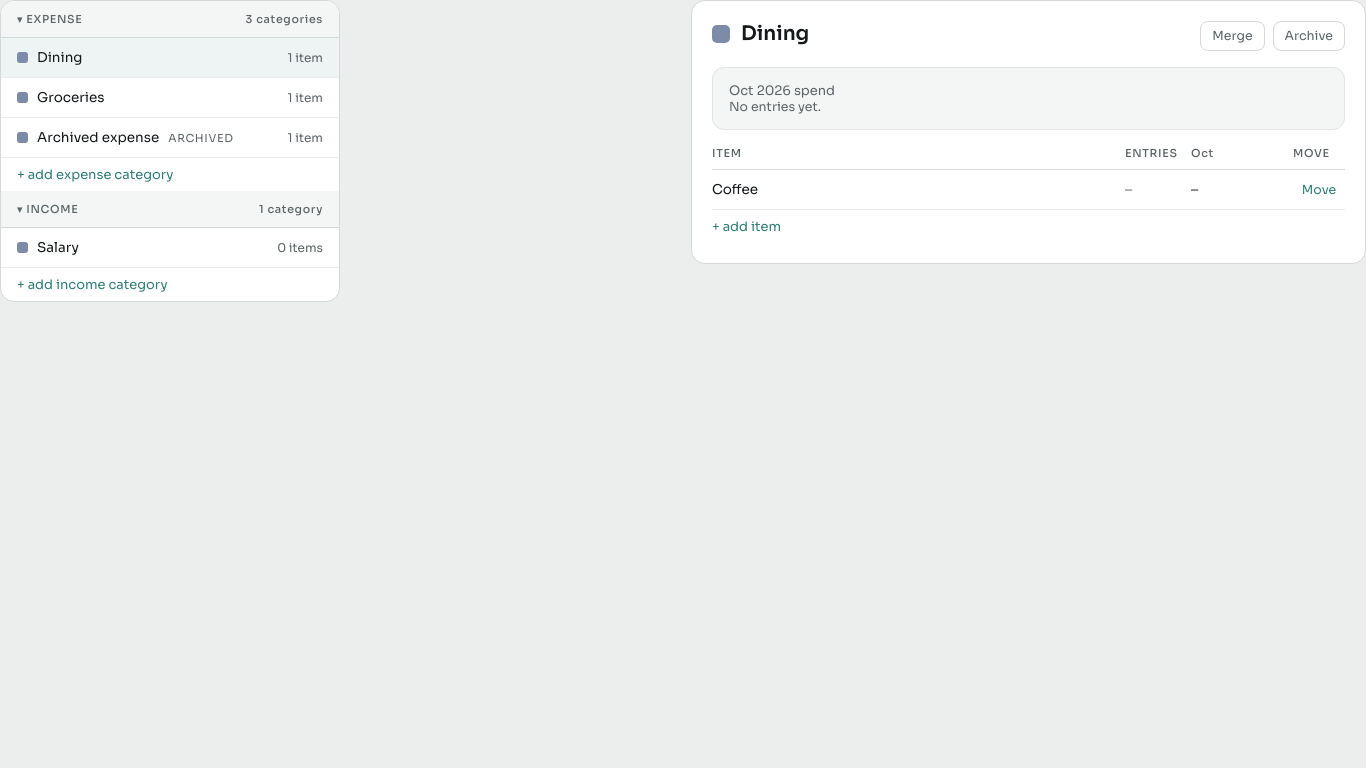
Test: category operation dialogs › requires destinations, filters them, previews combinations, and sends move and merge requests
Click the button "Move": (1319, 190) [1293,182,1345,198]
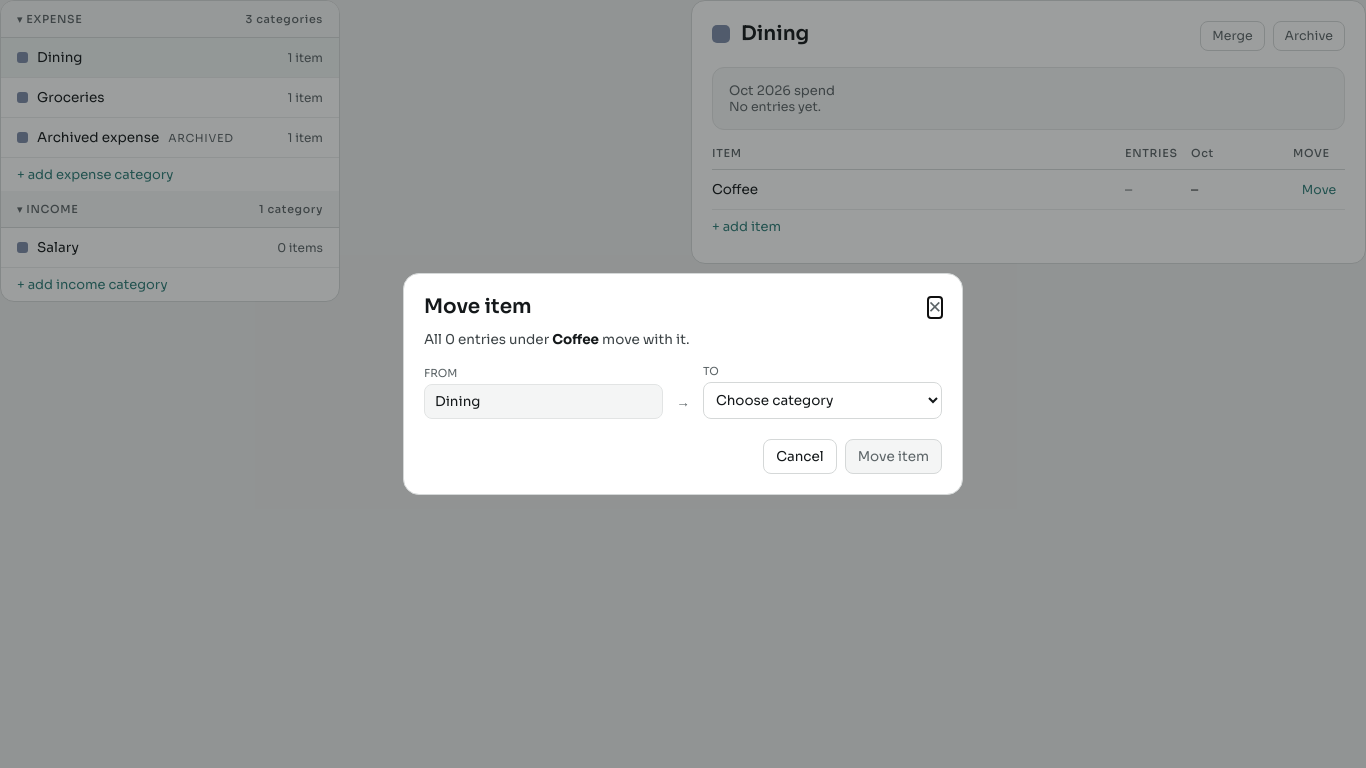
Expected: the button "Move item" is disabled, [845,439,942,474]
Select "Groceries" in the dropdown named "Move item to category": (822, 400) [703,382,942,419]
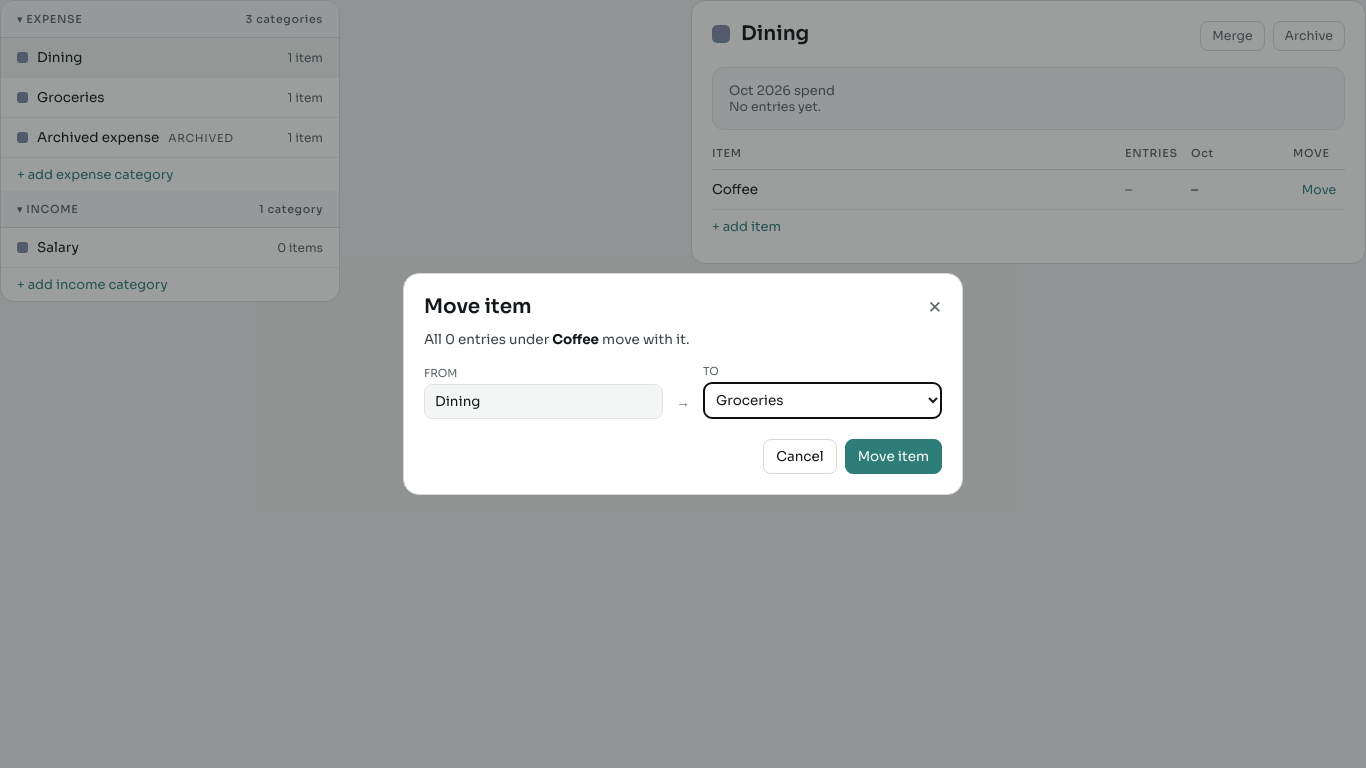
Click the button "Move item": (893, 456) [845,439,942,474]
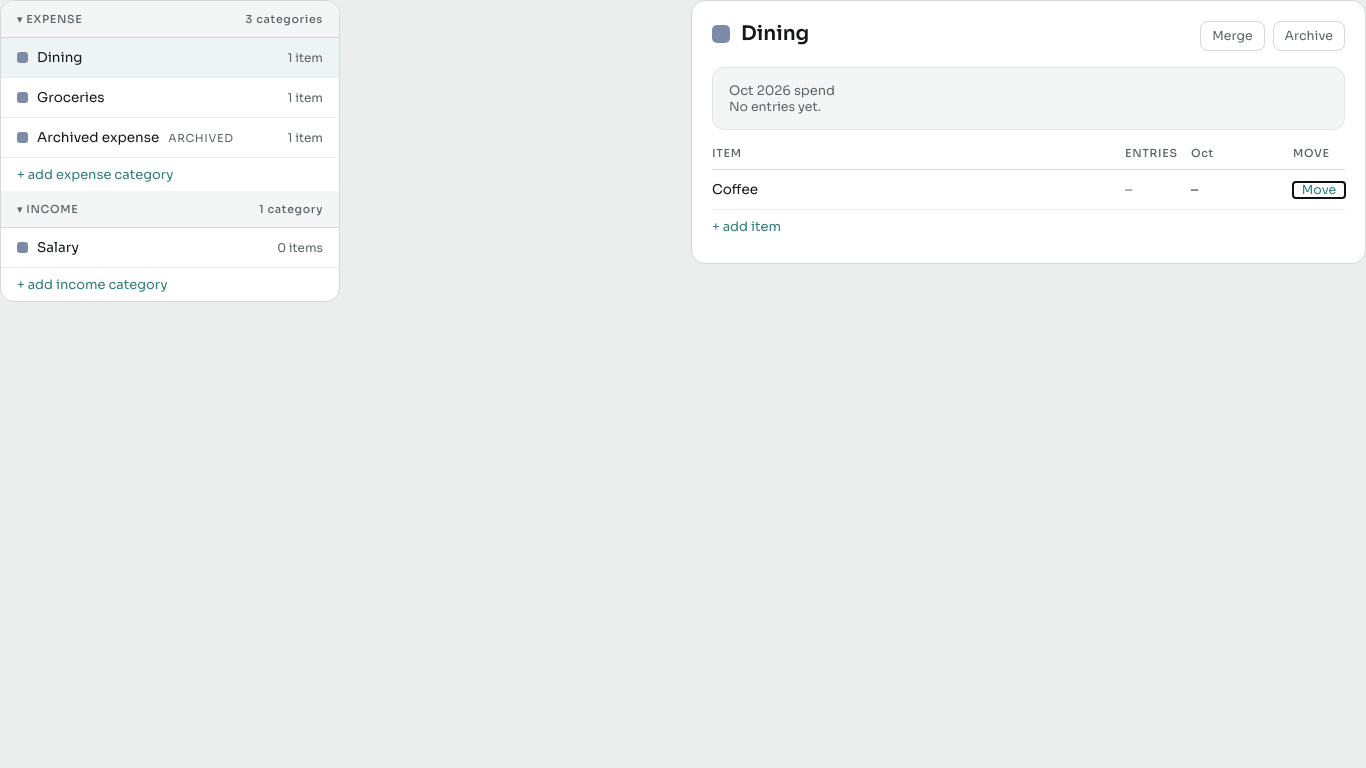
Click the button "Merge": (1232, 36) [1200,21,1265,51]
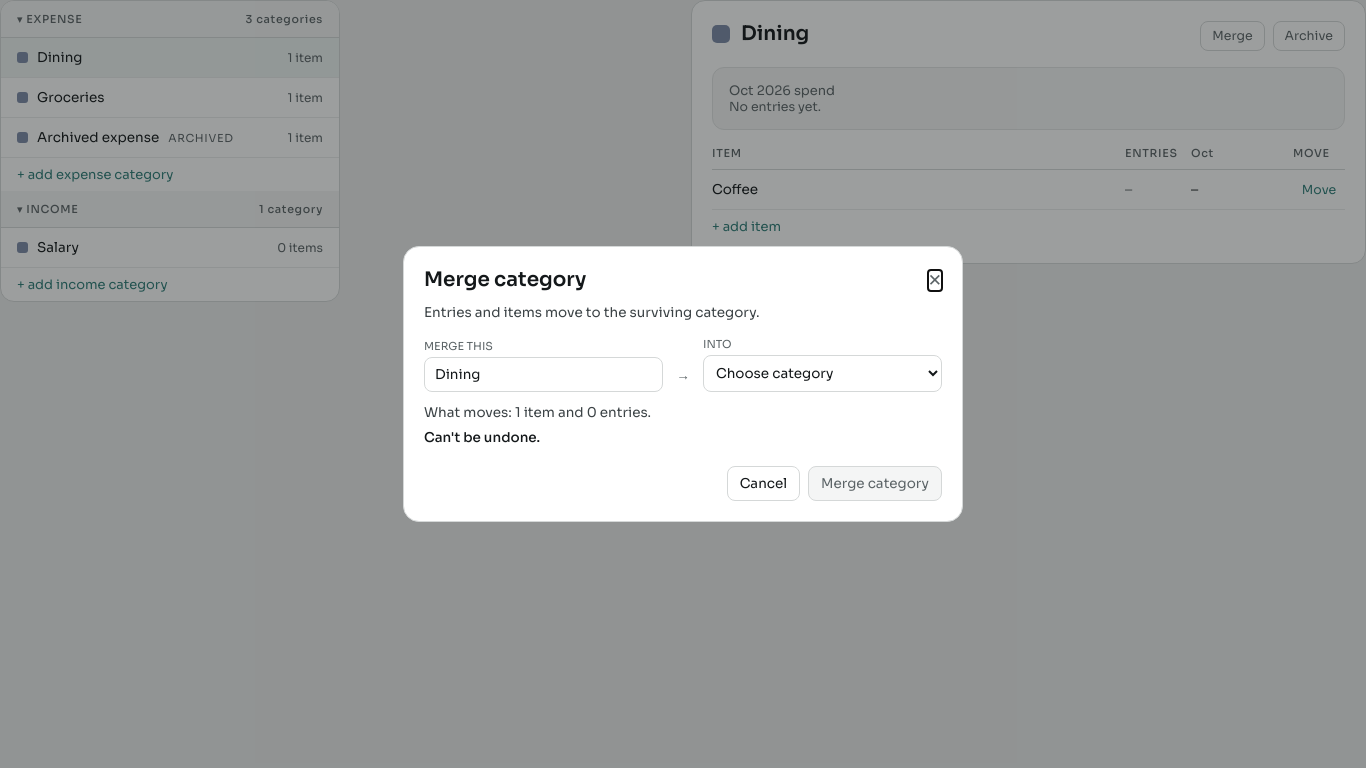
Expected: the button "Merge category" is disabled, [808,466,942,501]
Select "Groceries" in the dropdown named "Merge into category": (822, 374) [703,355,942,392]
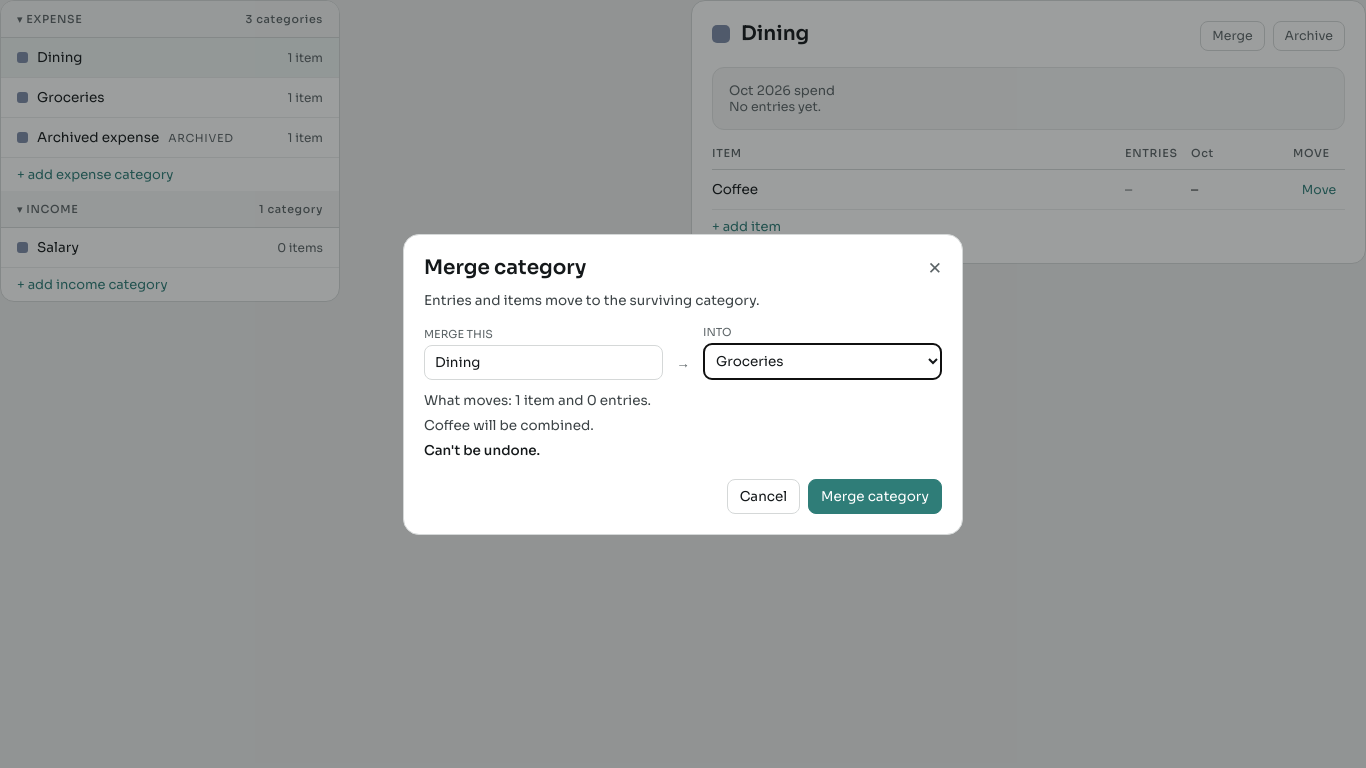
Expected: the text "Coffee will be combined." is shown, [424,416,594,434]
Click the button "Merge category": (875, 496) [808,478,942,514]
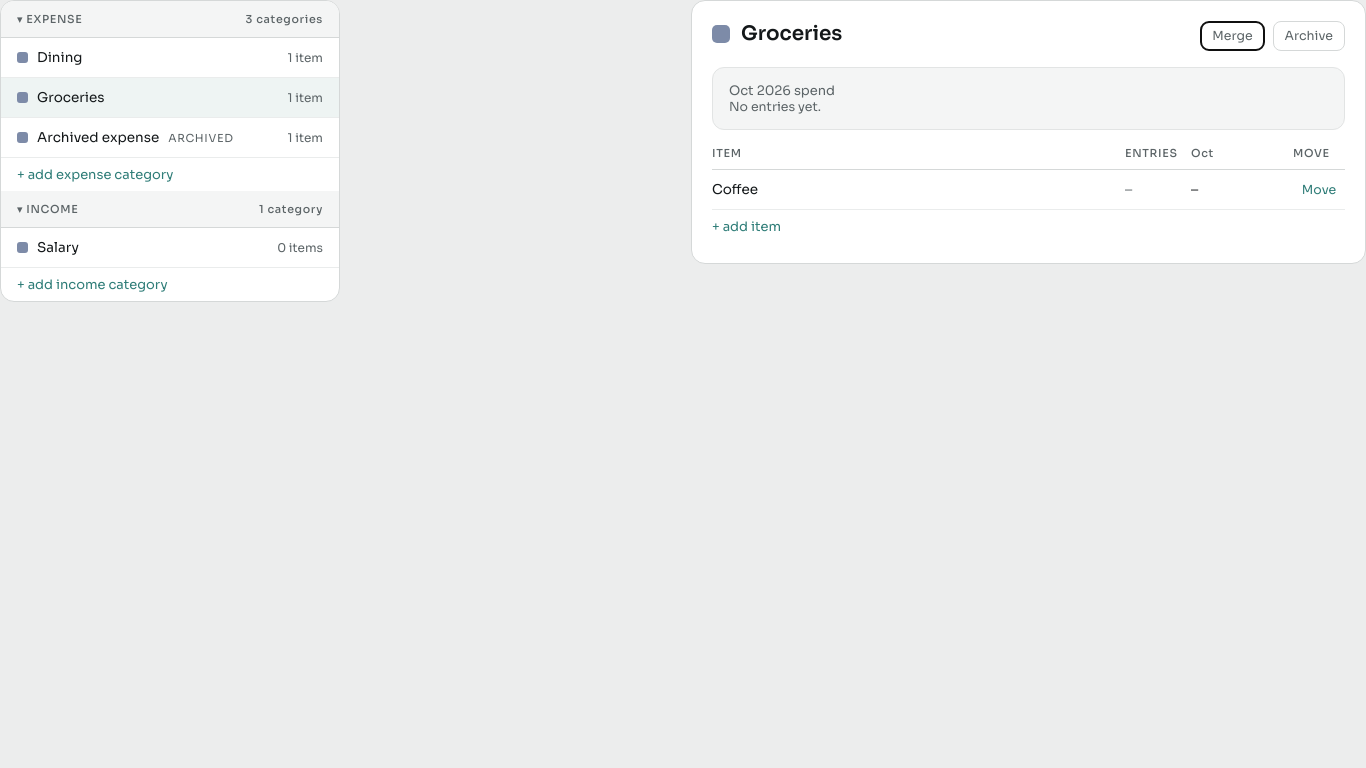
Expected: the heading "Groceries" is shown, [741,21,842,46]
